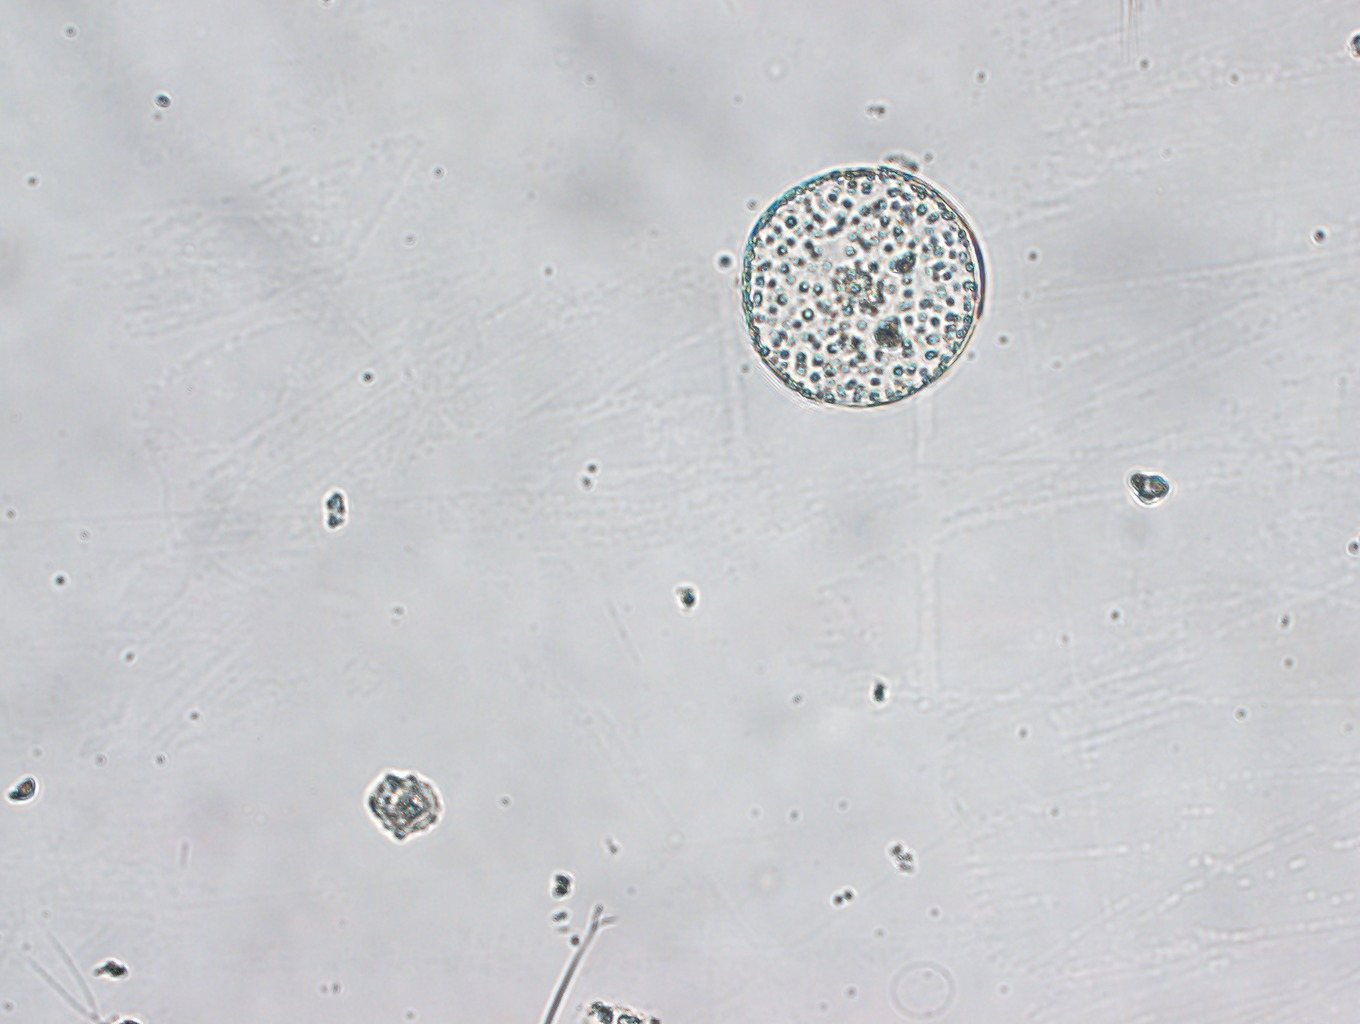coscinodiscus: (738, 163, 986, 410)
